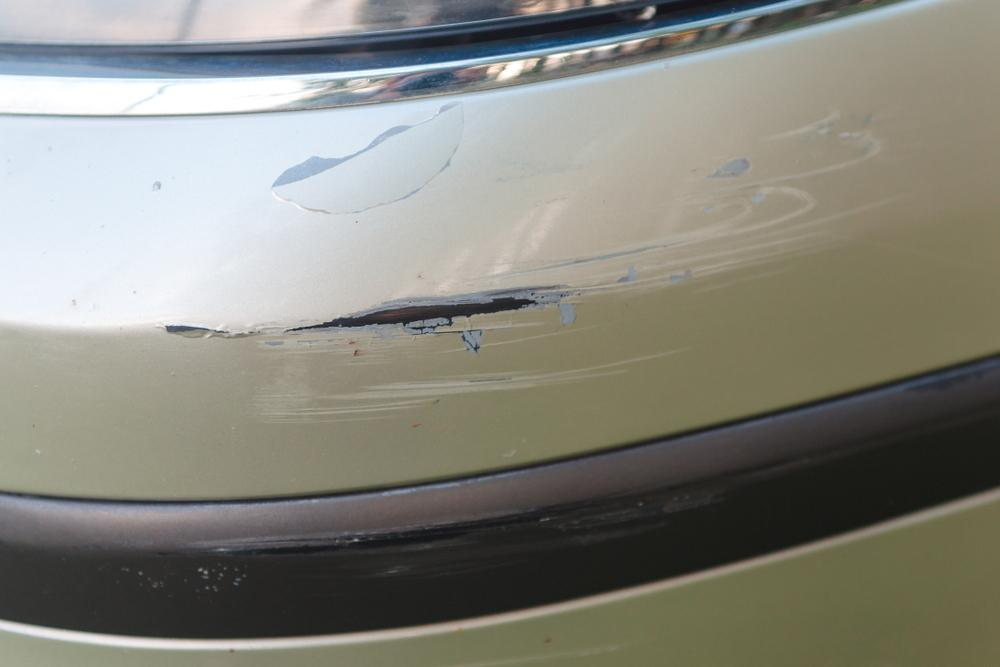scratch: (173, 98, 895, 425), (180, 460, 764, 565)
